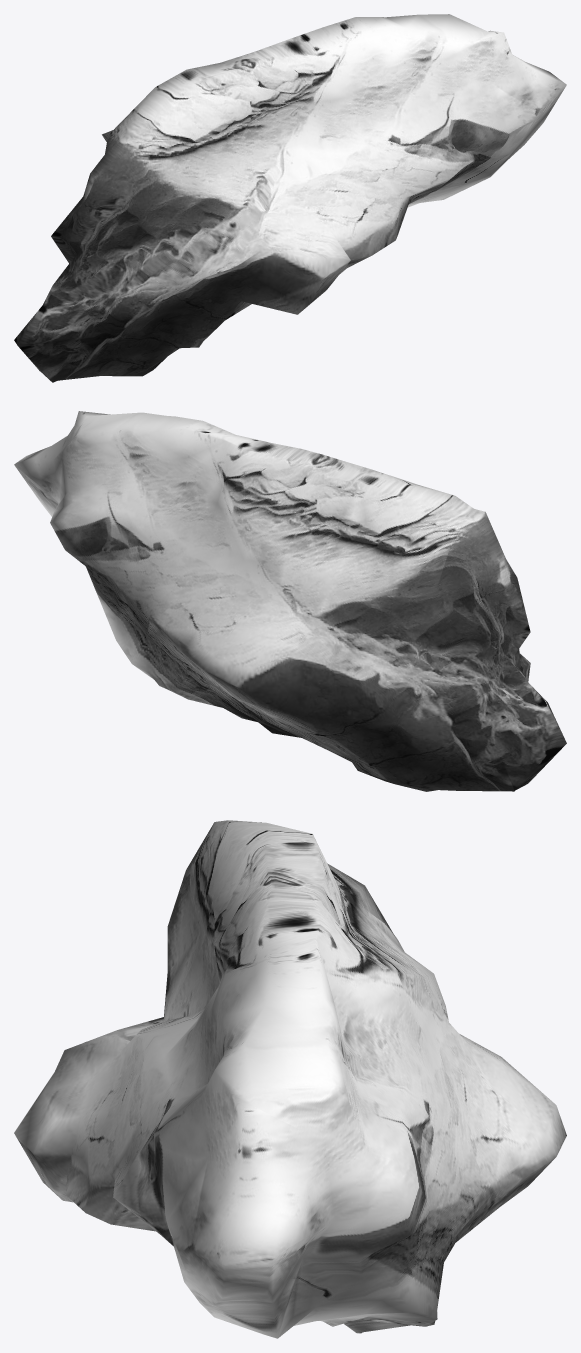
3 renders of one model, top to bottom at view 1: azimuth 30°, elevation 25°; view 2: azimuth 150°, elevation 25°; view 3: azimuth 270°, elevation 25°, orthographic. The views are drawn at different scales.
Parts seen in each view (by area): view 1: Plane.003; view 2: Plane.003; view 3: Plane.003.
Boxes of the visible parts, left/top/right/bottom form: Plane.003: left=14, top=14, right=566, bottom=382; Plane.003: left=14, top=411, right=566, bottom=791; Plane.003: left=14, top=820, right=566, bottom=1338.
Size of the model in its own units: 5.34 by 2.83 by 2.88.
Materials: 1 (1 with a texture image).
